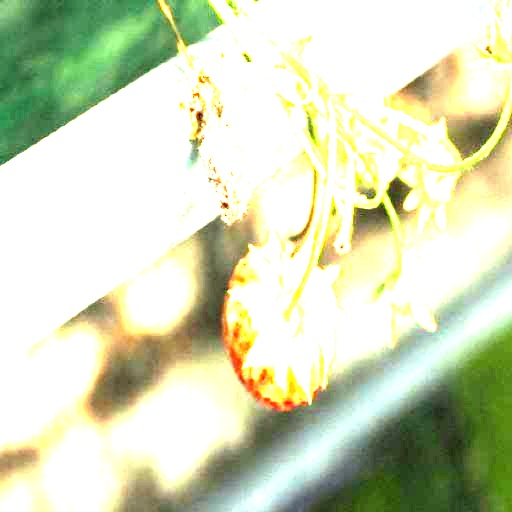Gray Mold: (163, 47, 254, 225)
